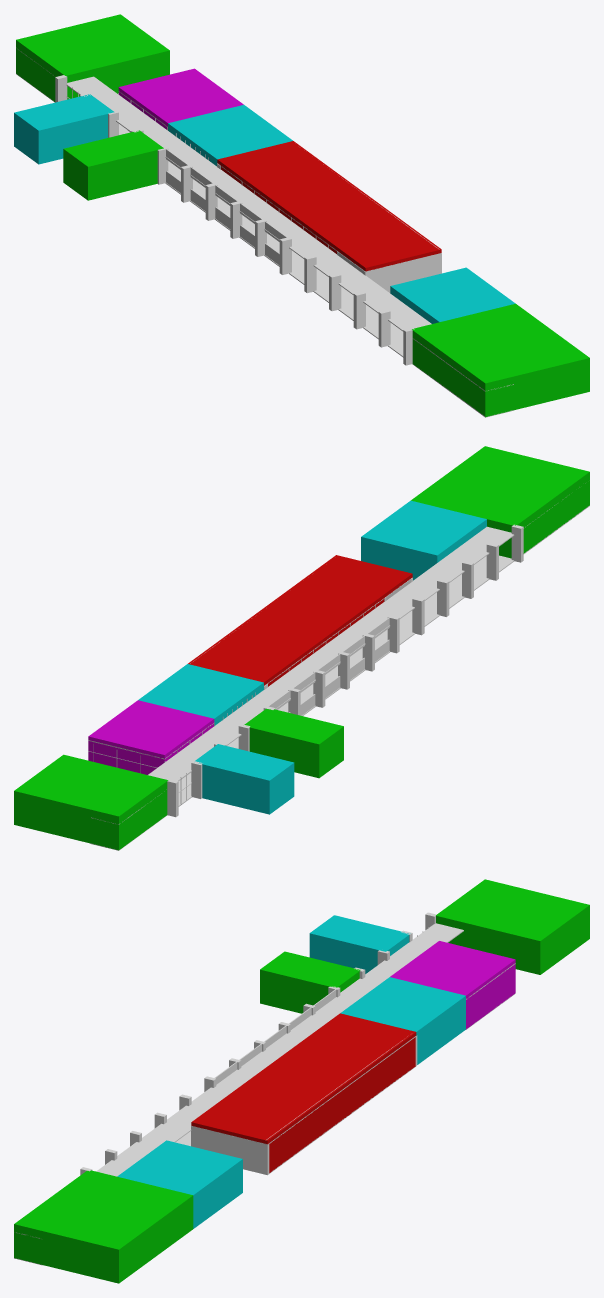
File: BaseModel_Ver2.0_1F.fbx
The picture shows the model from 3 angles, top to bottom: view 1: azimuth 30°, elevation 25°; view 2: azimuth 150°, elevation 25°; view 3: azimuth 330°, elevation 25°; orthographic projection.
Parts seen in each view (by area): view 1: 部屋.002, 職員室.001, 部屋, 床.002, 部屋.003, 部屋.004, 事務室.001, 校長室, 部屋.001, 床.000, Mesh.027, Cube.017 (+1 smaller); view 2: 職員室.001, 部屋, 部屋.002, 床.002, 部屋.001, 事務室.001, 部屋.004, 部屋.003, 校長室, 床.000, Cube.017, Cube.016; view 3: 職員室.001, 部屋.002, 部屋, 床.002, 部屋.001, 事務室.001, 校長室, 部屋.003, 部屋.004, Mesh.027, Cube.017.
Boxes of the visible parts, x1,y1,x2,y2 form: 部屋.002: (412,303,589,417); 職員室.001: (217,141,441,271); 部屋: (16,14,169,101); 床.002: (16,47,513,391); 部屋.003: (63,130,163,200); 部屋.004: (14,94,114,164); 事務室.001: (118,68,243,129); 校長室: (168,105,292,166); 部屋.001: (390,267,515,323); 床.000: (16,73,513,417); Mesh.027: (365,253,441,287); Cube.017: (166,149,288,241); 職員室.001: (188,555,412,686); 部屋: (14,754,168,850); 部屋.002: (411,446,589,558); 床.002: (91,483,585,824); 部屋.001: (361,500,486,580); 事務室.001: (88,700,214,774); 部屋.004: (195,744,294,814); 部屋.003: (244,708,343,778); 校長室: (138,664,263,725); 床.000: (90,505,589,850); Cube.017: (268,616,390,709); Cube.016: (289,639,389,715); 職員室.001: (191,1013,416,1172); 部屋.002: (14,1170,193,1283); 部屋: (436,879,589,974); 床.002: (16,923,463,1238); 部屋.001: (117,1140,242,1228); 事務室.001: (390,941,515,1029); 校長室: (340,977,465,1064); 部屋.003: (260,951,360,1013); 部屋.004: (309,915,410,973); Mesh.027: (191,1126,269,1164); Cube.017: (213,989,336,1084).
Size of the model in its own units: 1901 by 345 by 8550.
